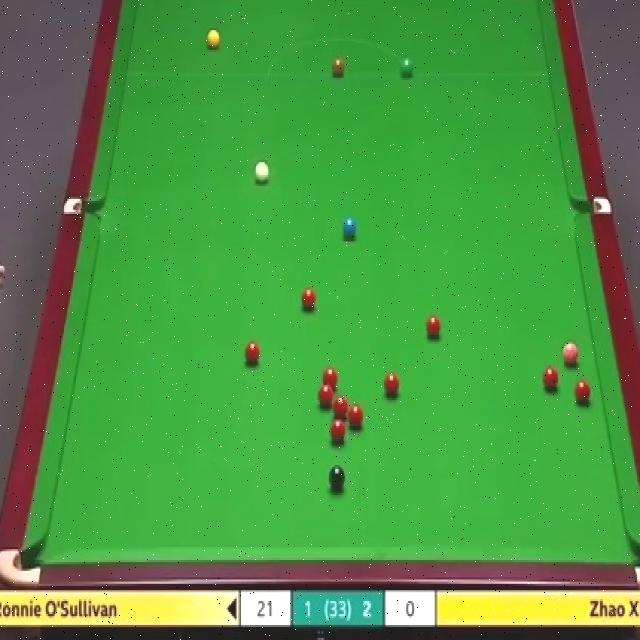black-ball: (328, 465, 345, 492)
blue-ball: (342, 215, 358, 238)
brown-ball: (331, 56, 345, 78)
green-ball: (401, 58, 413, 76)
pink-ball: (562, 340, 579, 367)
red-ball: (243, 339, 262, 369), (383, 371, 401, 397), (544, 366, 562, 391), (348, 405, 364, 431), (300, 288, 318, 311), (575, 380, 592, 404), (330, 420, 345, 444), (426, 315, 440, 340), (321, 366, 339, 384), (333, 398, 350, 417), (318, 383, 334, 400)
white-ball: (252, 157, 270, 184)
yellow-ball: (207, 29, 222, 52)
